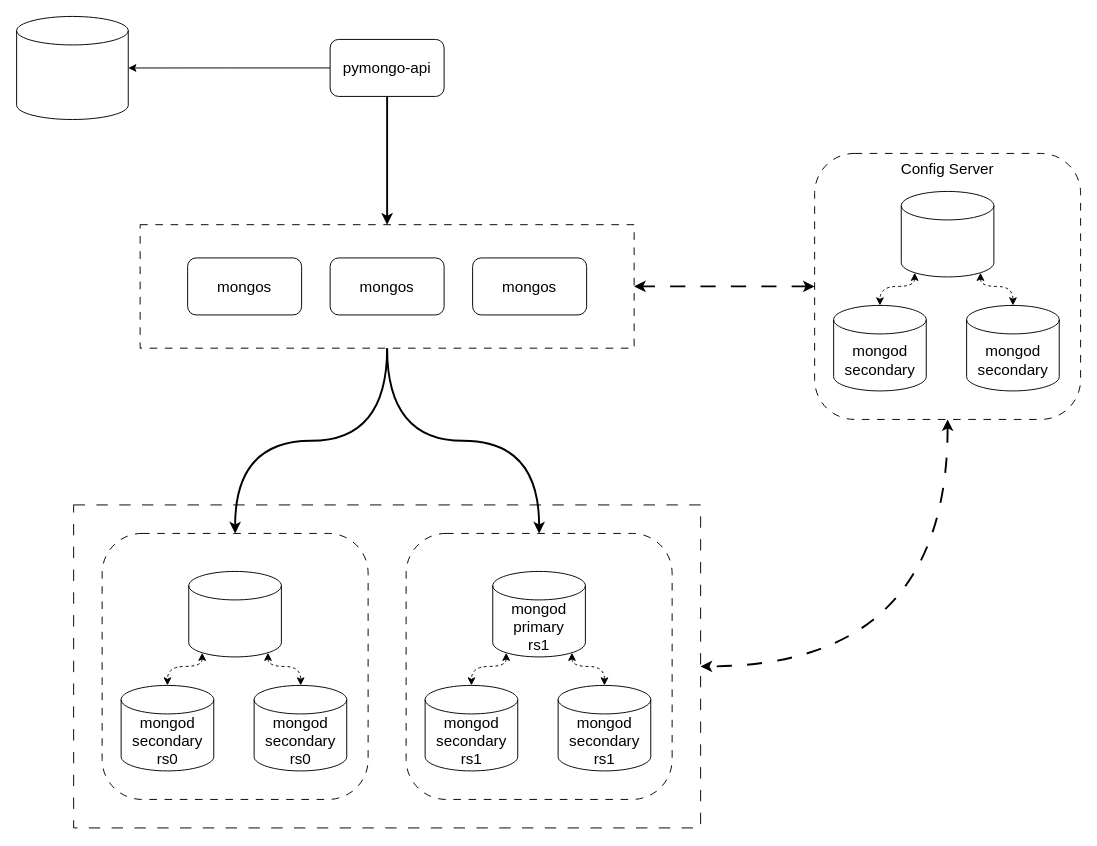
Some shapes in this 1097 by 846 pixel diagram are drawn without their labels. Each missing label, with the box of its shape:
mongod primary: (900, 190, 994, 277)
mongod primary rs0: (188, 570, 281, 657)
Redis Cache: (16, 15, 128, 120)
Routers: (139, 224, 634, 348)
Shard01: (101, 532, 368, 799)
Shard02: (405, 532, 672, 799)
